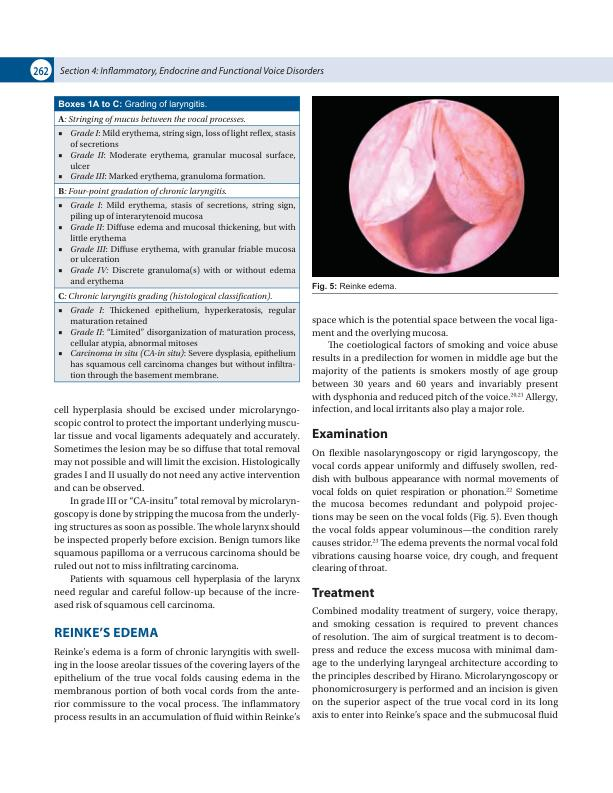caption: (57, 99, 208, 110), (312, 282, 397, 292)
header: (59, 66, 325, 77)
image: (311, 95, 560, 278)
list: (54, 111, 300, 383)
section-heading: (53, 625, 160, 638)
sub-section-heading: (311, 427, 389, 439), (310, 586, 376, 599)
text: (52, 404, 300, 612), (311, 447, 560, 574), (310, 606, 559, 722), (310, 314, 559, 415), (52, 646, 301, 724)
